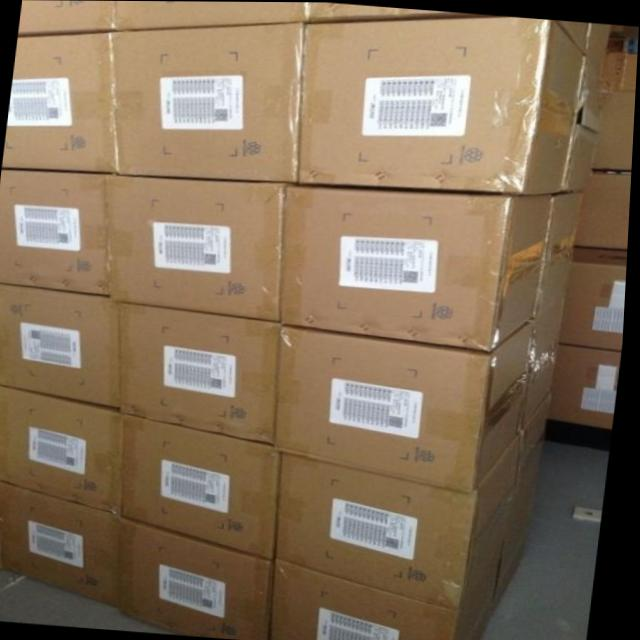box: (299, 16, 584, 195), (284, 183, 553, 350), (277, 320, 536, 492), (281, 436, 523, 608), (110, 22, 306, 182), (105, 174, 293, 321), (125, 413, 284, 560), (120, 302, 282, 445), (274, 544, 508, 640), (122, 515, 278, 640), (3, 31, 119, 174), (0, 385, 127, 515), (2, 481, 123, 607), (0, 283, 122, 407), (525, 191, 585, 430), (0, 169, 112, 295), (499, 392, 555, 615), (550, 343, 624, 450), (567, 22, 611, 190), (563, 246, 630, 348), (115, 1, 308, 29), (579, 170, 633, 249), (307, 2, 501, 20), (19, 0, 115, 35), (594, 90, 636, 170), (557, 19, 588, 52)
